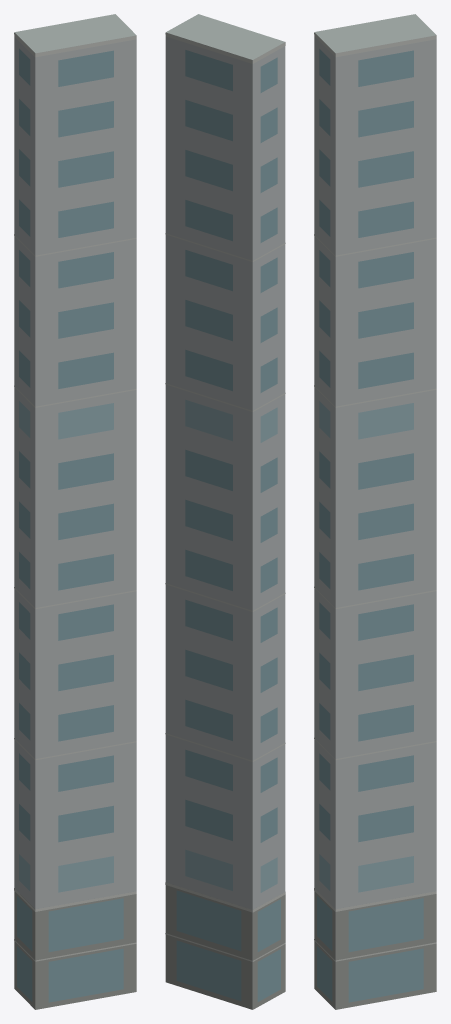
The model's file is survey-upis-32819349.glb.
3 renders of one model, left to right at view 1: azimuth 90°, elevation 25°; view 2: azimuth 210°, elevation 25°; view 3: azimuth 270°, elevation 25°, orthographic.
Parts seen in each view (by area): view 1: survey-upis-32819349.tmp; view 2: survey-upis-32819349.tmp; view 3: survey-upis-32819349.tmp.
Part boxes in pixels (box(x1,y1,x2,y2)): survey-upis-32819349.tmp: box(14, 14, 136, 1009); survey-upis-32819349.tmp: box(165, 14, 285, 1009); survey-upis-32819349.tmp: box(314, 14, 436, 1009).
Bounding box in the file's own units: 5.14 × 57.95 × 6.75.
